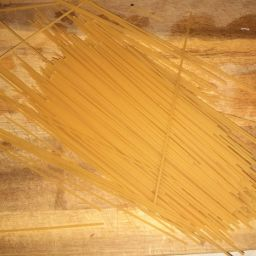Penne pasta: (11, 29, 212, 256), (3, 5, 190, 226), (100, 23, 256, 256)
